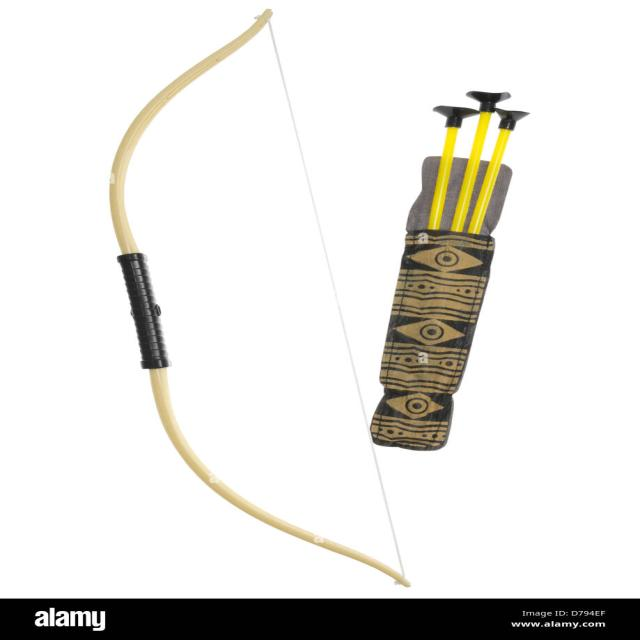X-Bow: (84, 2, 422, 596)
